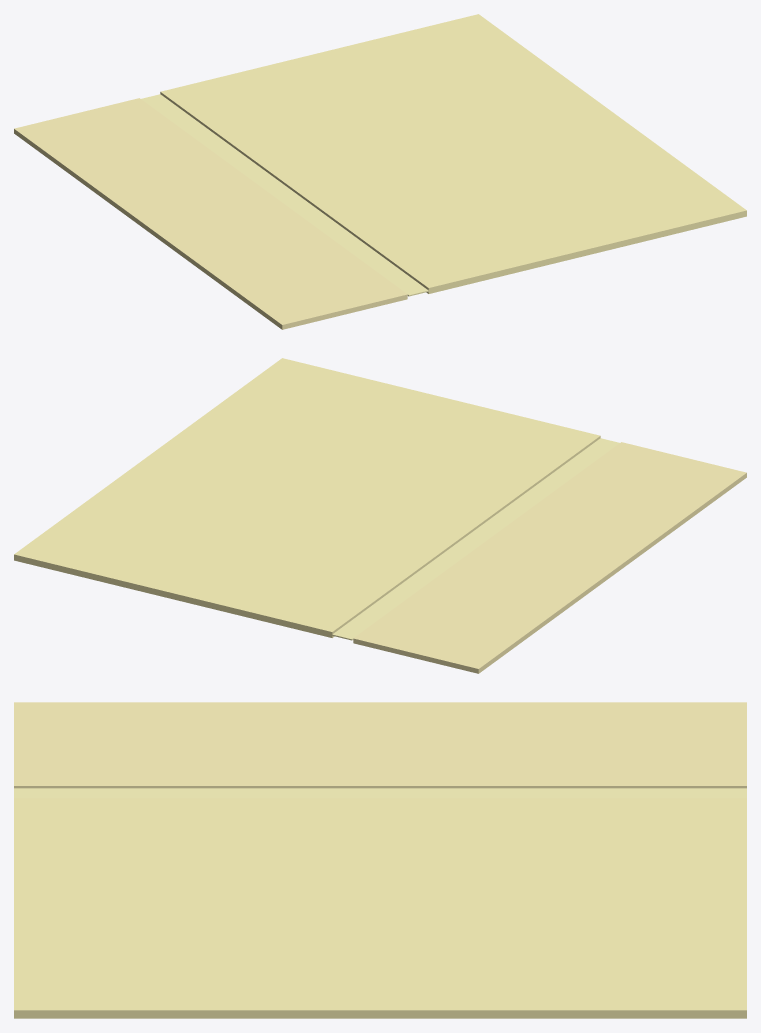
The model's file is road_gravel_shoulder.glb.
3 views of the same model, one above another, from view 1: azimuth 30°, elevation 25°; view 2: azimuth 150°, elevation 25°; view 3: azimuth 270°, elevation 25° (orthographic). The views are drawn at different scales.
Visible parts, largest first — view 1: shoulder, lane_edge, rumble_strip; view 2: shoulder, lane_edge, rumble_strip; view 3: shoulder, lane_edge, rumble_strip.
Part boxes in pixels (x1,y1,x2,y2): shoulder: (160,14,746,293); lane_edge: (14,98,407,329); rumble_strip: (141,94,429,296); shoulder: (14,358,600,637); lane_edge: (353,442,746,673); rumble_strip: (331,438,619,640); shoulder: (14,798,746,1018); lane_edge: (14,702,746,788); rumble_strip: (14,788,746,798).
Bounding box in the file's own units: 4 × 0.05 × 4.
